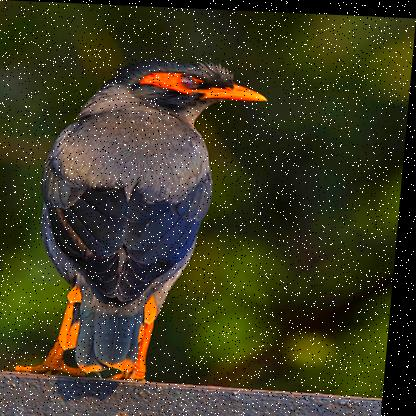Burung: (21, 53, 272, 382)
